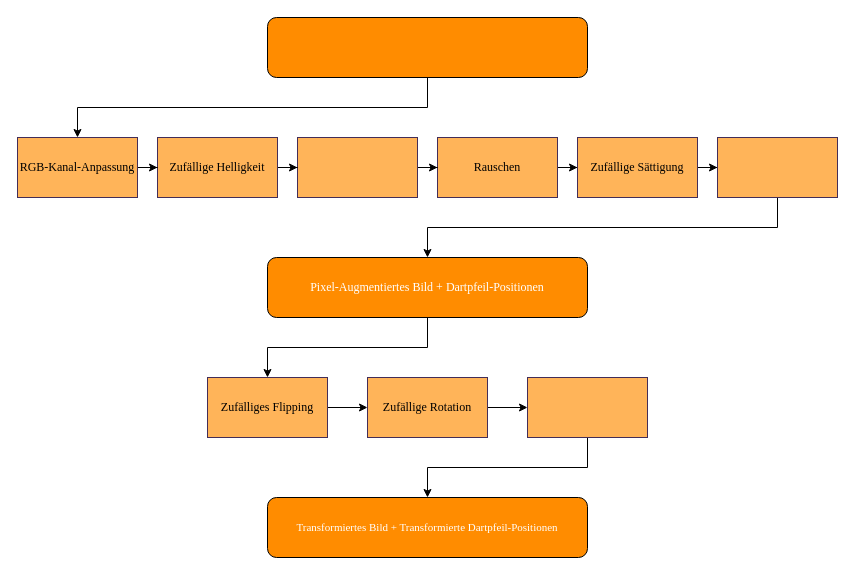
The diagram is 855 pixels wide and 575 high, and some of its shapes have lost their labels. The shapes that lost their labels are listed below. From the top down, each one's box as (x1, y1, x2, y2) in pixels, then its label:
(266, 16, 588, 78): Input-Daten Bild + Dartpfeil-Positionen
(296, 136, 418, 198): Zufälliger Kontrast
(716, 136, 838, 198): JPEG-Artefakte
(526, 376, 648, 438): Zufällige Translation
